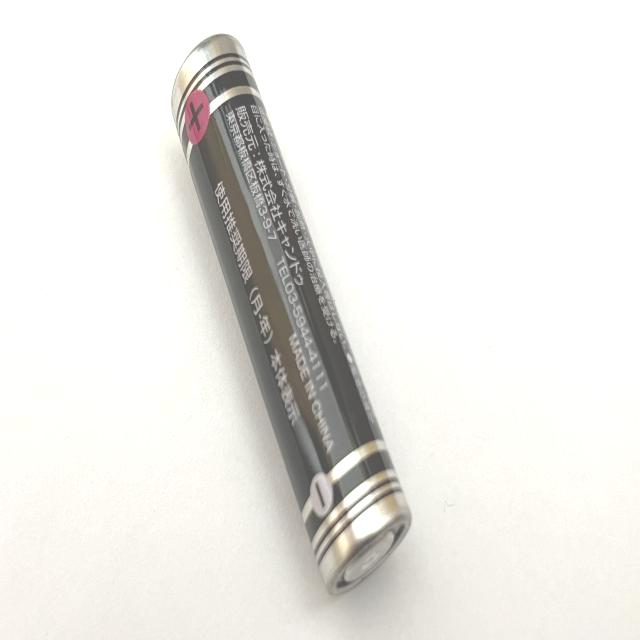AAA: (168, 31, 414, 603)
